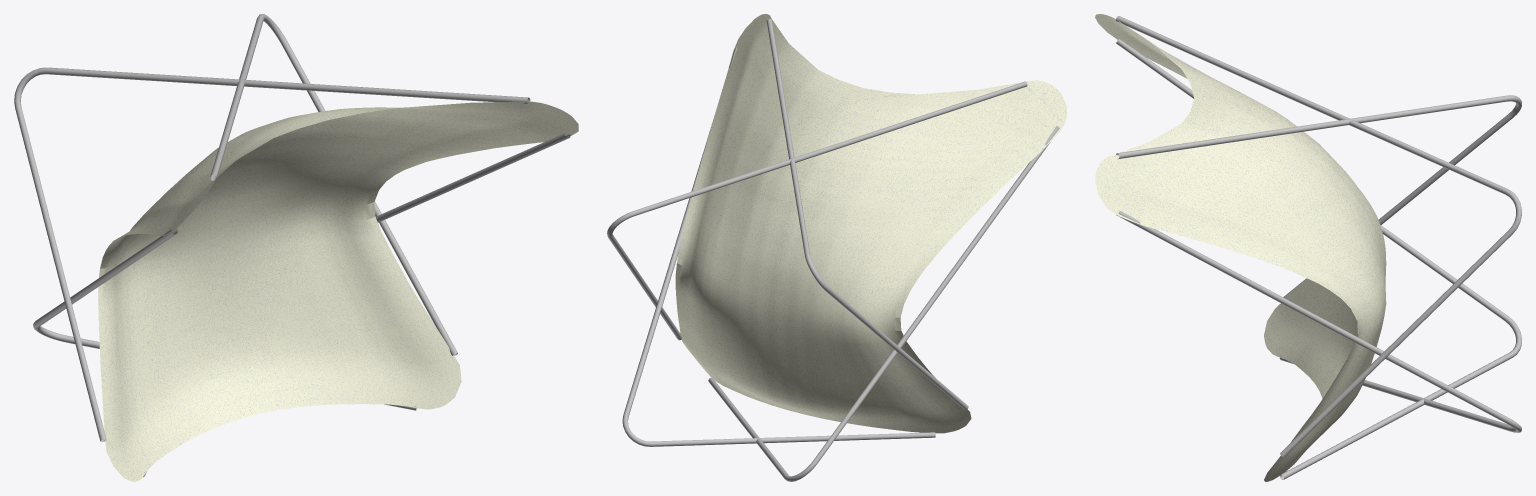
The picture shows the model from 3 angles, left to right: view 1: azimuth 30°, elevation 25°; view 2: azimuth 150°, elevation 25°; view 3: azimuth 270°, elevation 25°; orthographic projection. The views are drawn at different scales.
Parts seen in each view (by area): view 1: butterfly chair w fabric pattern; view 2: butterfly chair w fabric pattern; view 3: butterfly chair w fabric pattern.
Boxes of the visible parts, left/top/right/bottom form: butterfly chair w fabric pattern: left=14, top=14, right=578, bottom=481; butterfly chair w fabric pattern: left=607, top=14, right=1066, bottom=481; butterfly chair w fabric pattern: left=1095, top=14, right=1521, bottom=481.
Bounding box in the file's own units: 38.8 × 34.45 × 39.73.
